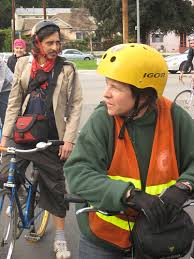helmet: (100, 42, 171, 116)
